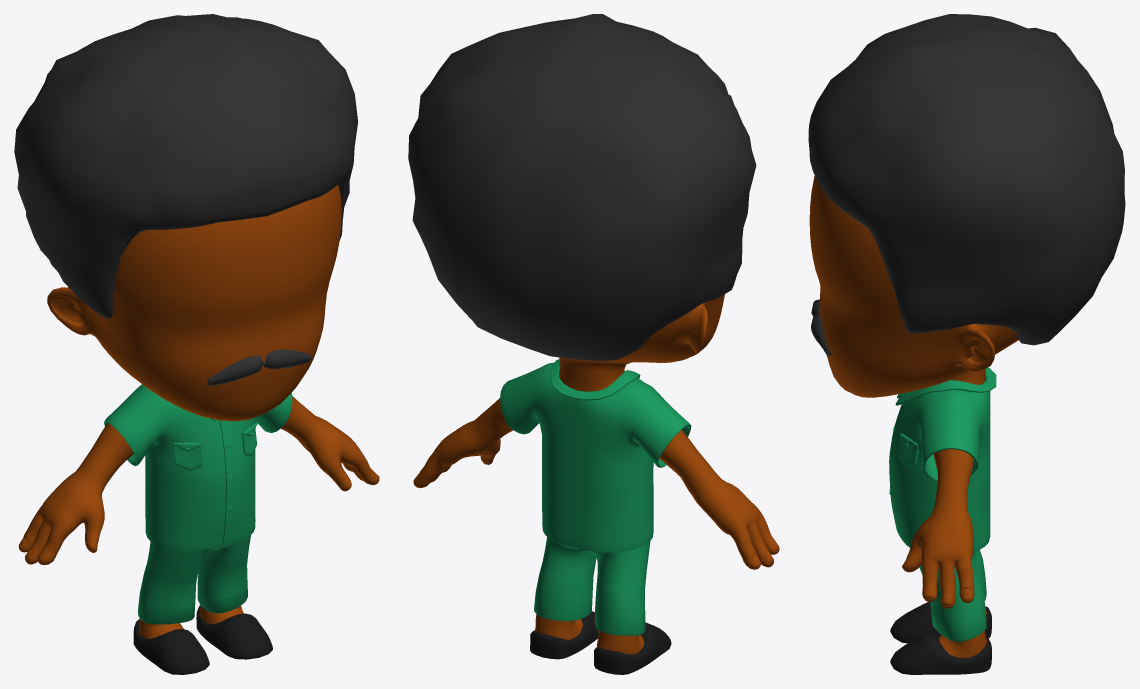
The model's file is male_Ver_06.FBX.
3 renders of one model, left to right at view 1: azimuth 30°, elevation 25°; view 2: azimuth 150°, elevation 25°; view 3: azimuth 270°, elevation 25°, orthographic.
Parts seen in each view (by area): view 1: hair_09:hair, body, hair_09:shirt, pent:pent, shoes, mostachuu1:Group59329; view 2: hair_09:hair, hair_09:shirt, body, pent:pent, shoes; view 3: hair_09:hair, body, hair_09:shirt, shoes, pent:pent, mostachuu1:Group59329.
Part boxes in pixels (x1,y1,x2,y2): hair_09:hair: (14,14,357,318); body: (18,185,379,638); hair_09:shirt: (104,384,292,550); pent:pent: (138,535,250,624); shoes: (133,605,272,674); mostachuu1:Group59329: (207,349,311,385); hair_09:hair: (408,14,756,360); hair_09:shirt: (500,359,691,552); body: (413,294,779,654); pent:pent: (534,537,650,635); shoes: (530,611,671,674); hair_09:hair: (808,14,1125,345); body: (809,176,1018,657); hair_09:shirt: (889,367,996,551); shoes: (890,601,991,674); pent:pent: (919,550,986,641); mostachuu1:Group59329: (811,299,831,356).
Bounding box in the file's own units: 10.58 × 17.77 × 8.31.
